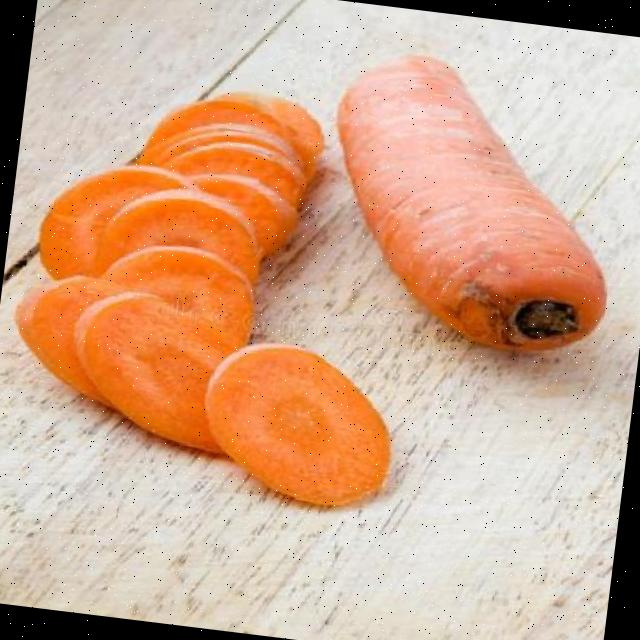carrot: (337, 56, 606, 350)
